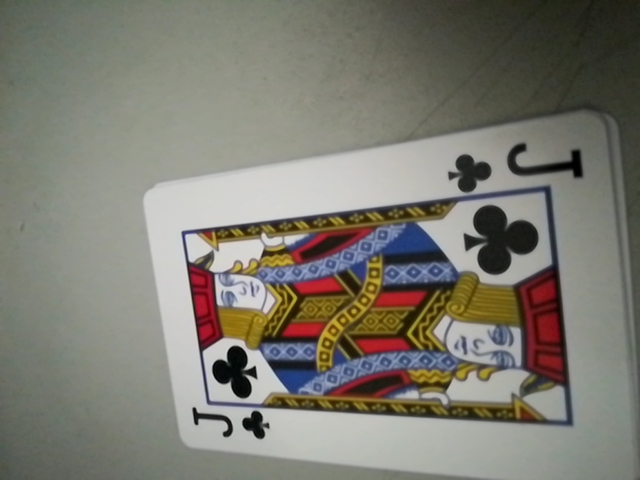mh j: (444, 132, 590, 196), (188, 399, 273, 450)
